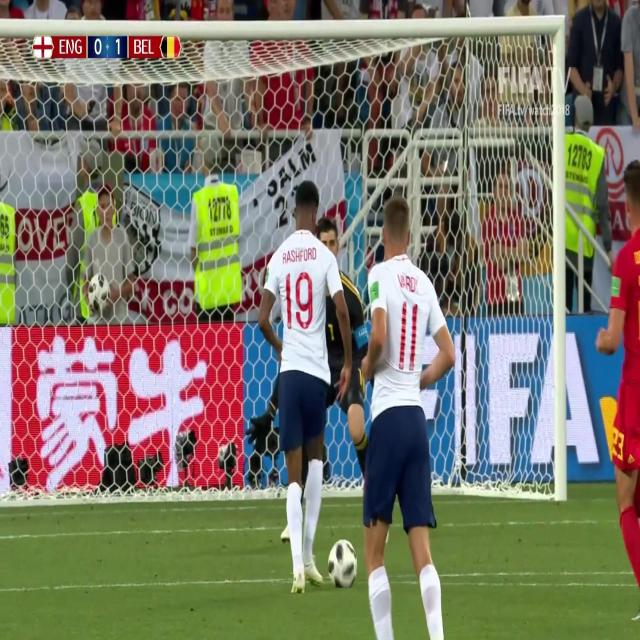ball: (324, 533, 361, 593)
player: (238, 180, 371, 606), (342, 188, 457, 640), (589, 133, 640, 613)
